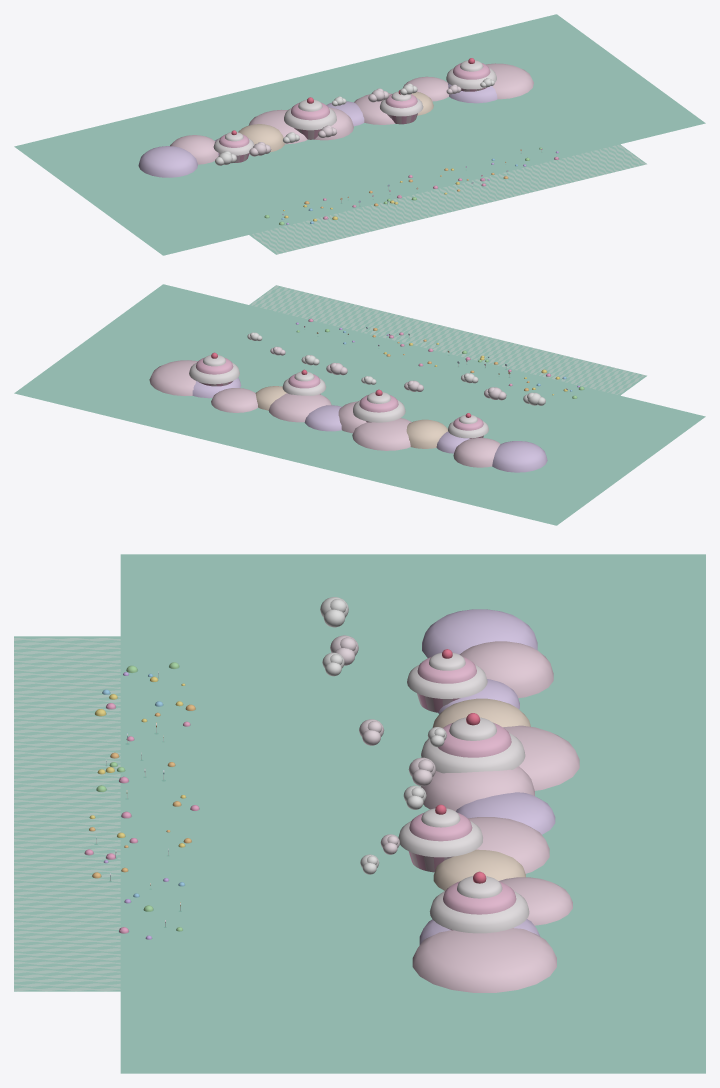
The model's file is candy-far.glb.
3 views of the same model, one above another, from view 1: azimuth 30°, elevation 25°; view 2: azimuth 150°, elevation 25°; view 3: azimuth 270°, elevation 25° (orthographic). The views are drawn at different scales.
Parts seen in each view (by area): view 1: candy-far; view 2: candy-far; view 3: candy-far.
Part boxes in pixels (x1,y1,x2,y2): candy-far: (14, 14, 705, 255); candy-far: (14, 284, 705, 525); candy-far: (14, 554, 705, 1073).
Bounding box in the file's own units: 1900 × 129 × 1070.
